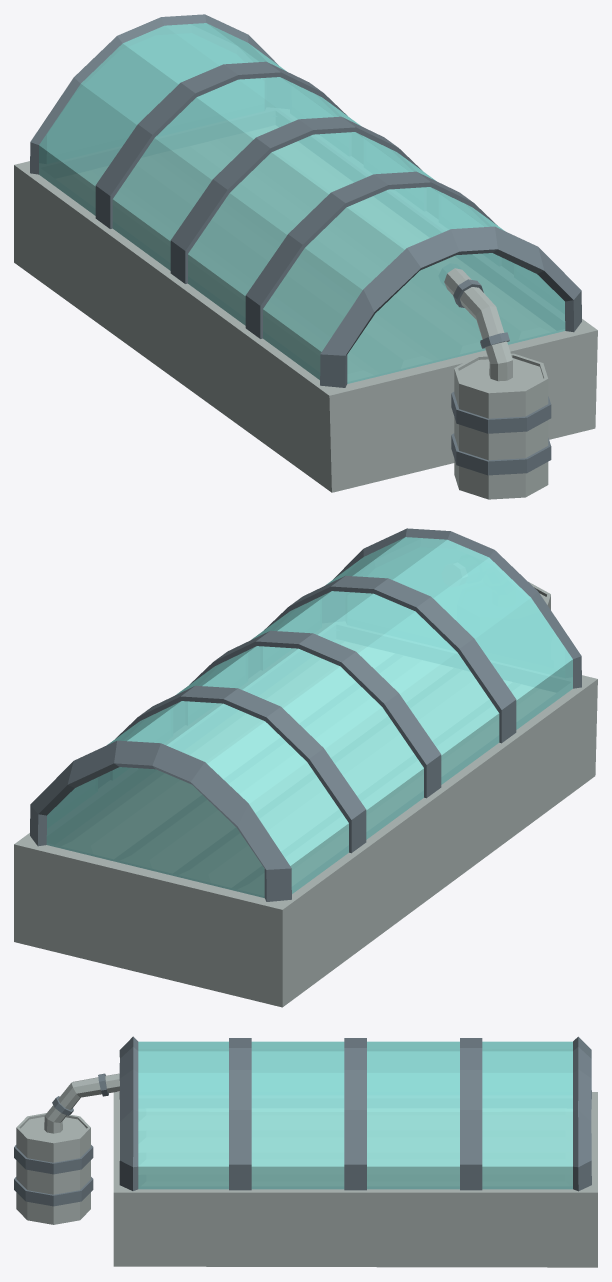
The model's file is GardenBed_1 2.fbx.
3 views of the same model, one above another, from view 1: azimuth 30°, elevation 25°; view 2: azimuth 150°, elevation 25°; view 3: azimuth 270°, elevation 25° (orthographic). The views are drawn at different scales.
Visible parts, largest first — view 1: GreenHouse1.002, GreenHouse1; view 2: GreenHouse1.002, GreenHouse1; view 3: GreenHouse1.002, GreenHouse1.
Part boxes in pixels (x1,y1,x2,y2): GreenHouse1.002: (30, 14, 581, 499); GreenHouse1: (14, 161, 597, 492); GreenHouse1.002: (30, 528, 581, 901); GreenHouse1: (14, 675, 597, 1007); GreenHouse1.002: (14, 1036, 591, 1224); GreenHouse1: (113, 1092, 597, 1267).
Bounding box in the file's own units: 200 × 158 × 490.
